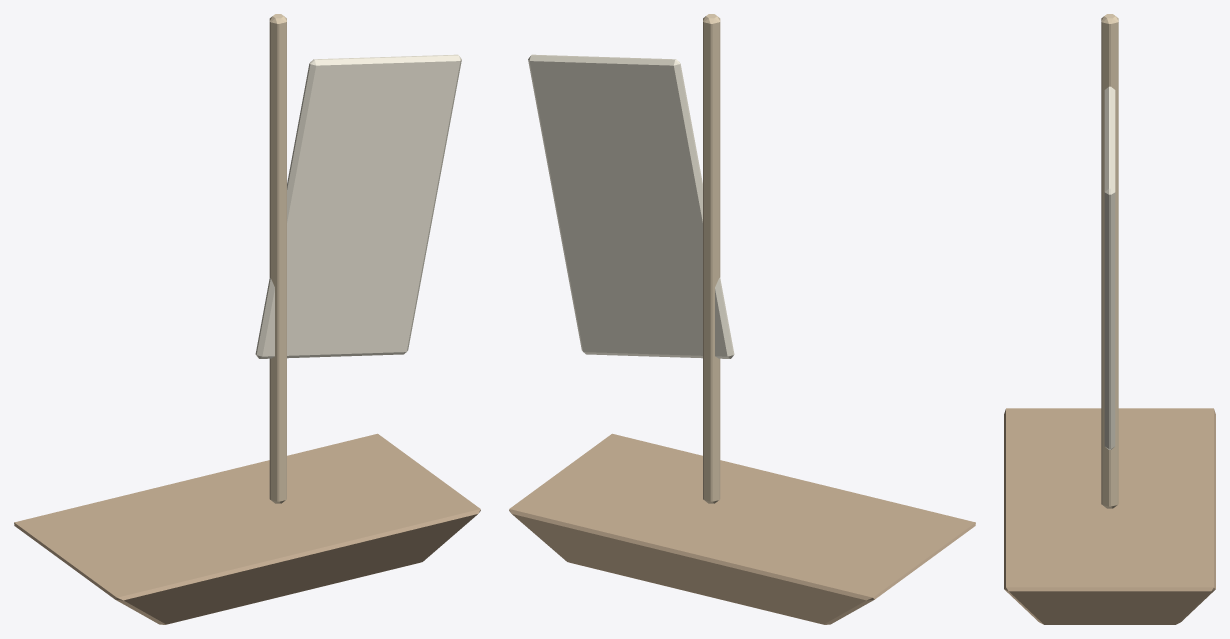
The model's file is boat.glb.
The picture shows the model from 3 angles, left to right: view 1: azimuth 30°, elevation 25°; view 2: azimuth 150°, elevation 25°; view 3: azimuth 270°, elevation 25°; orthographic projection.
Parts seen in each view (by area): view 1: hull, sail, mast; view 2: hull, sail, mast; view 3: hull, mast, sail.
Part boxes in pixels (bbox=[...]): hull: bbox=[14, 433, 480, 624]; sail: bbox=[255, 54, 461, 358]; mast: bbox=[269, 14, 286, 503]; hull: bbox=[509, 433, 975, 624]; sail: bbox=[528, 54, 734, 358]; mast: bbox=[703, 14, 720, 503]; hull: bbox=[1004, 408, 1215, 624]; mast: bbox=[1101, 14, 1118, 508]; sail: bbox=[1104, 86, 1115, 449].
Size of the model in its own units: 1.28 by 1.7 by 0.5875.
